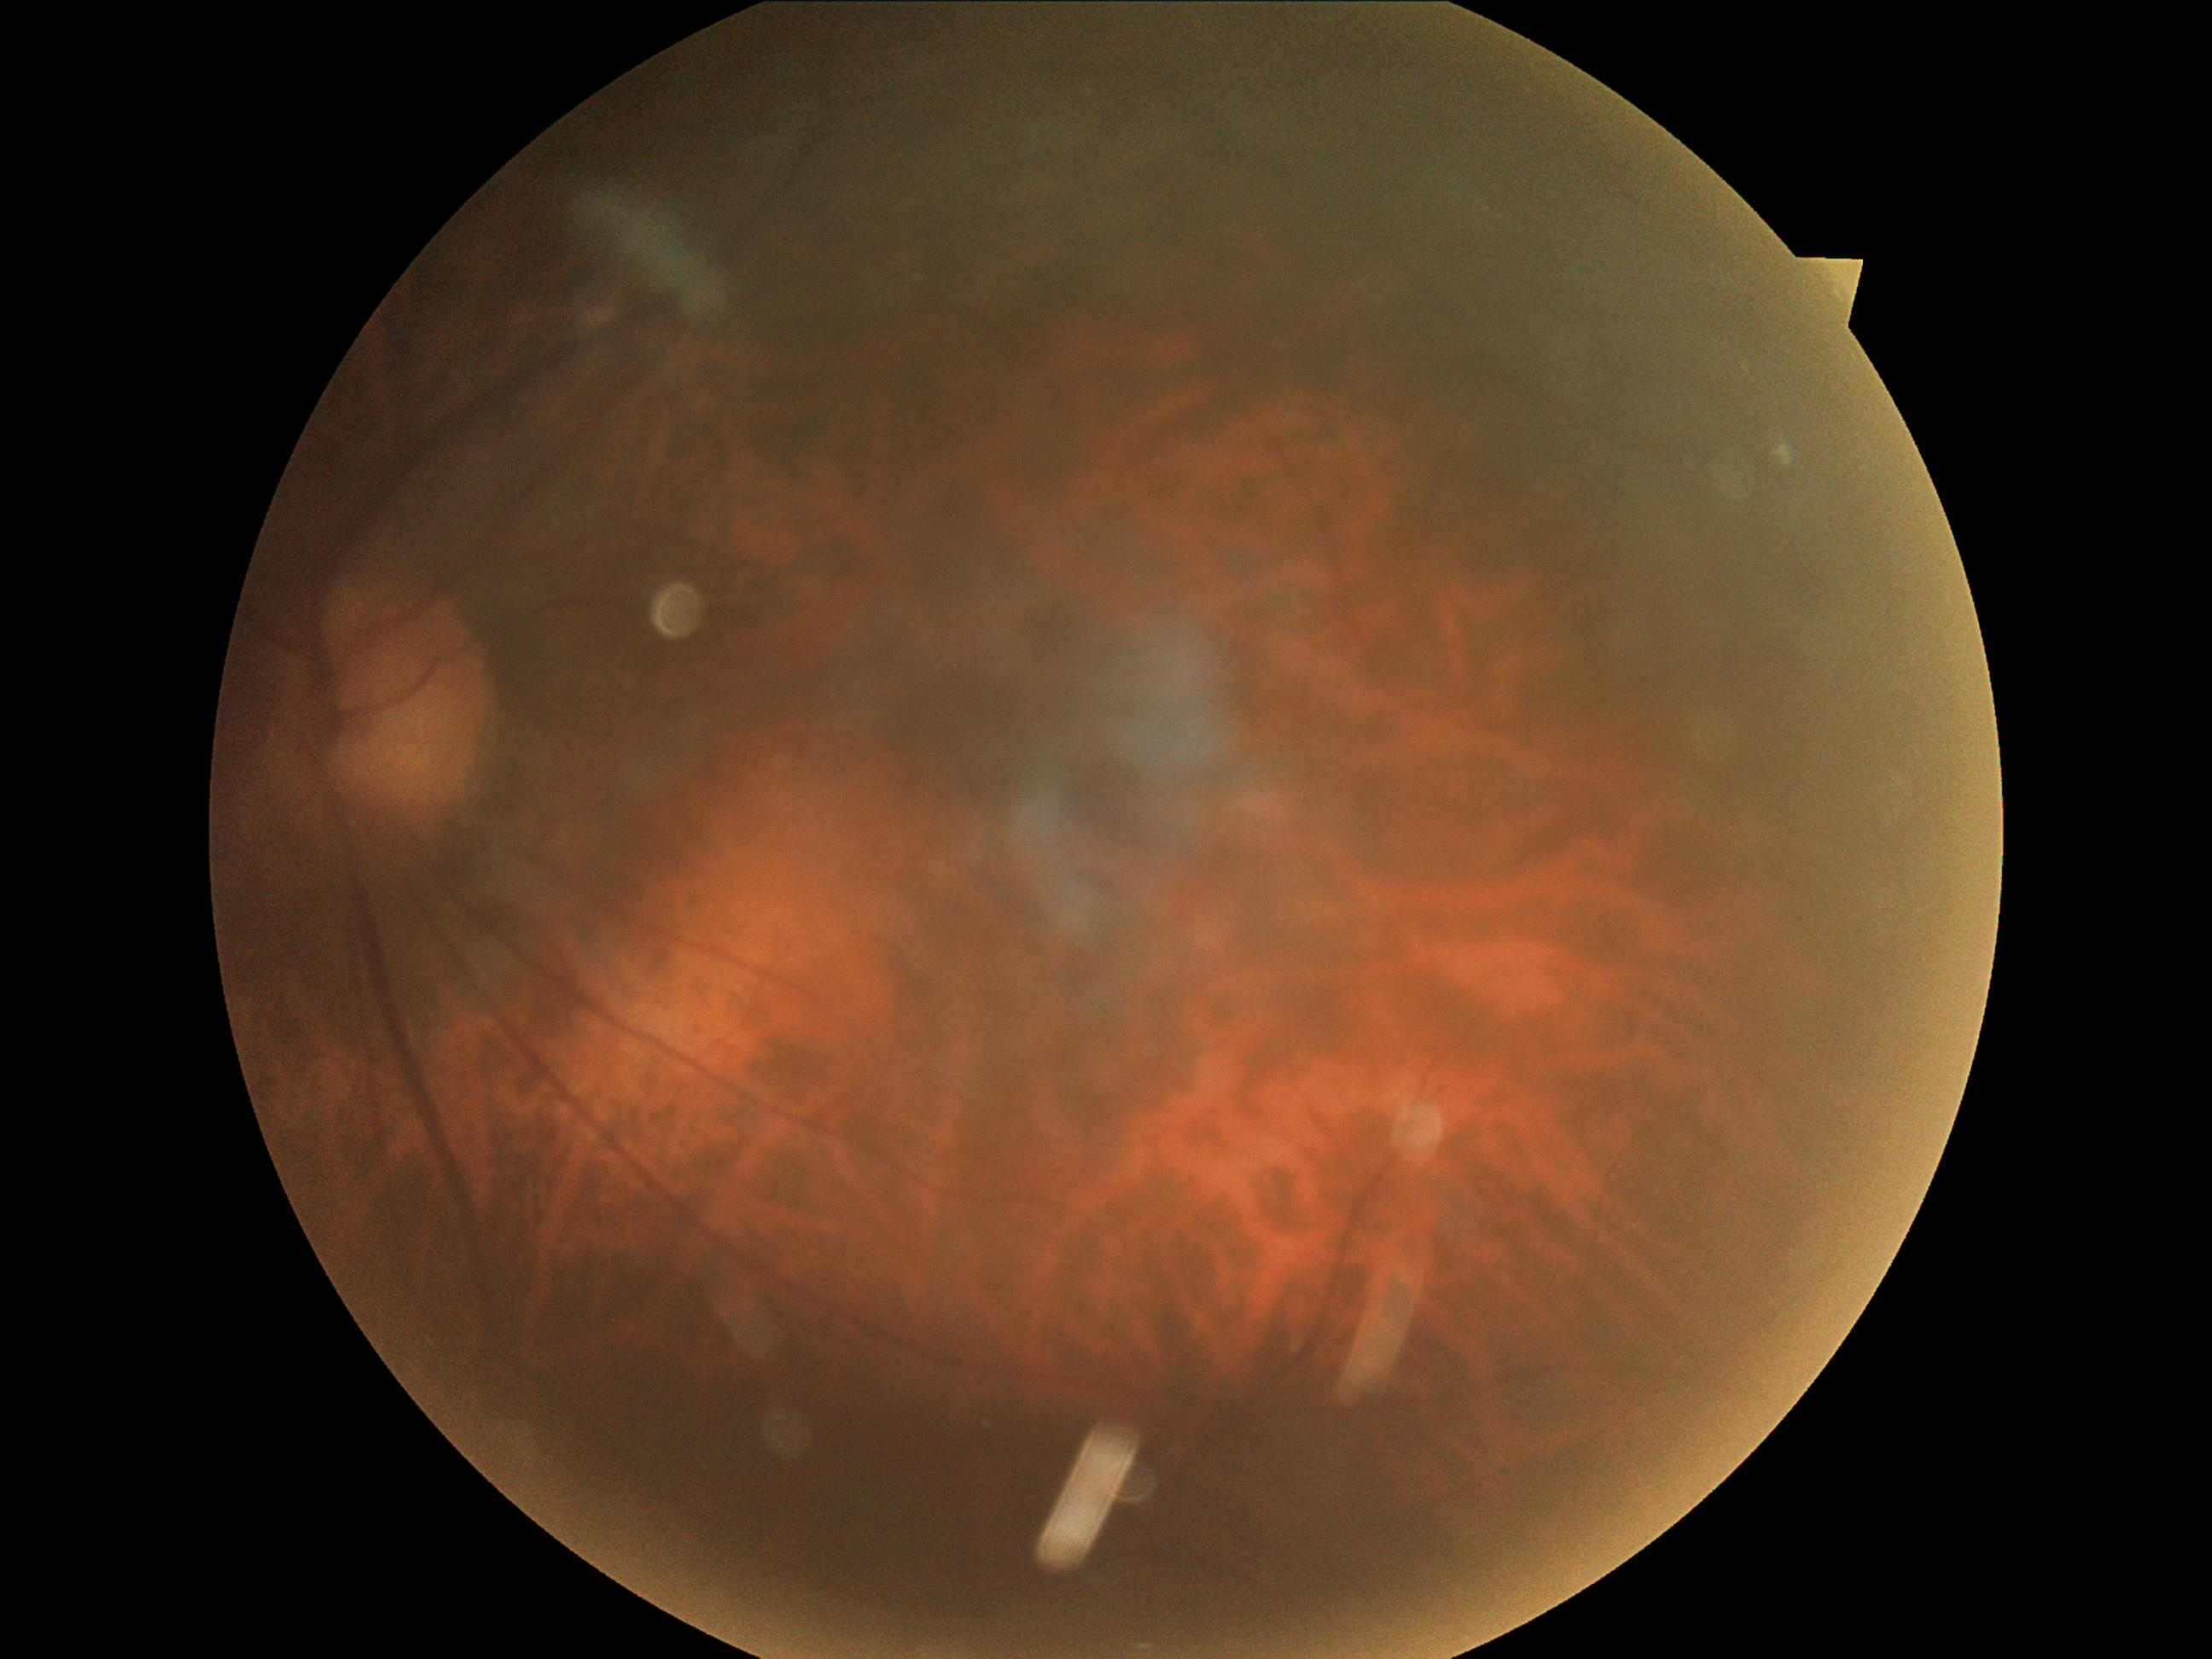Optic-nerve: (253, 570, 505, 877)
notch: (1780, 235, 1893, 342)
